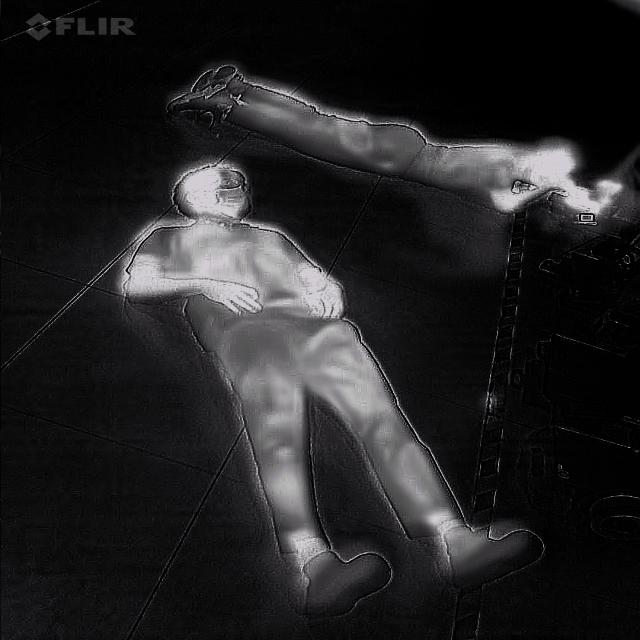Victim: (112, 157, 550, 623), (153, 54, 578, 216)
